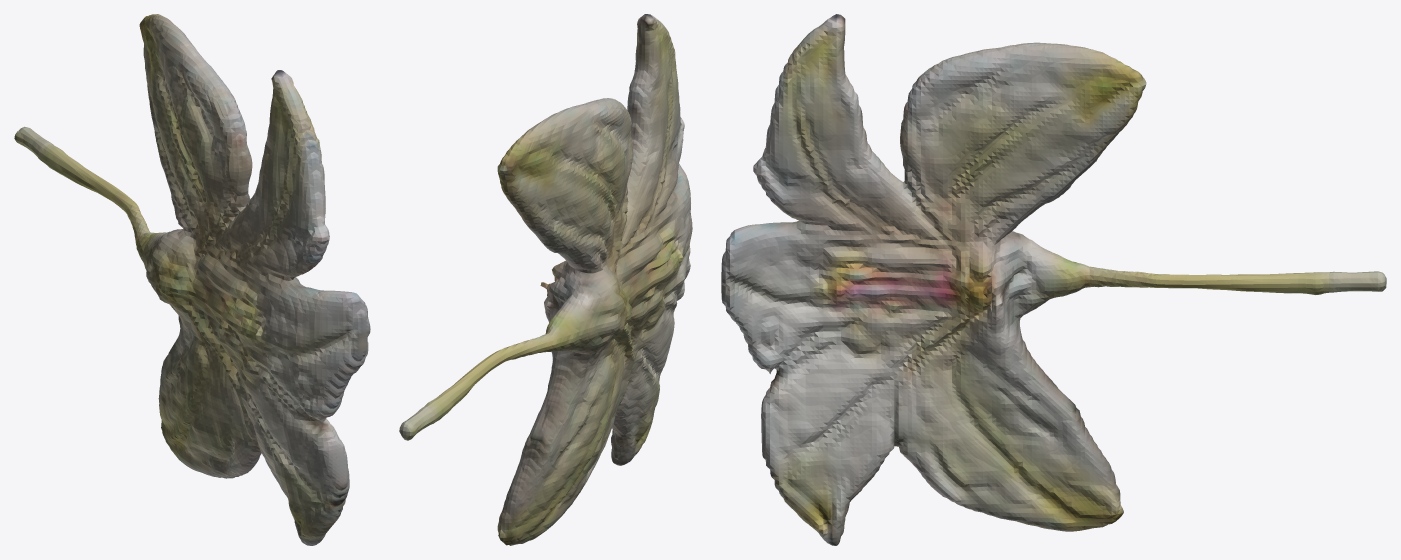
3 renders of one model, left to right at view 1: azimuth 30°, elevation 25°; view 2: azimuth 150°, elevation 25°; view 3: azimuth 270°, elevation 25°, orthographic. The views are drawn at different scales.
Parts seen in each view (by area): view 1: world; view 2: world; view 3: world.
Part boxes in pixels (x1=…): world: x1=14, y1=14, x2=370, y2=545; world: x1=399, y1=14, x2=692, y2=545; world: x1=721, y1=14, x2=1386, y2=545.
Bounding box in the file's own units: 0.1732 × 0.8712 × 1.02.
